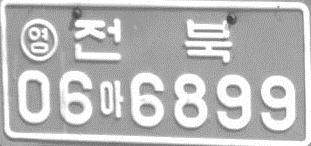0: (16, 69, 51, 125)
6: (129, 72, 166, 128), (58, 69, 93, 126)
8: (173, 72, 208, 129)
9: (259, 74, 296, 131), (216, 73, 252, 131)
아: (98, 80, 125, 118)
영: (19, 17, 58, 62)
전북_D: (70, 16, 234, 64)
